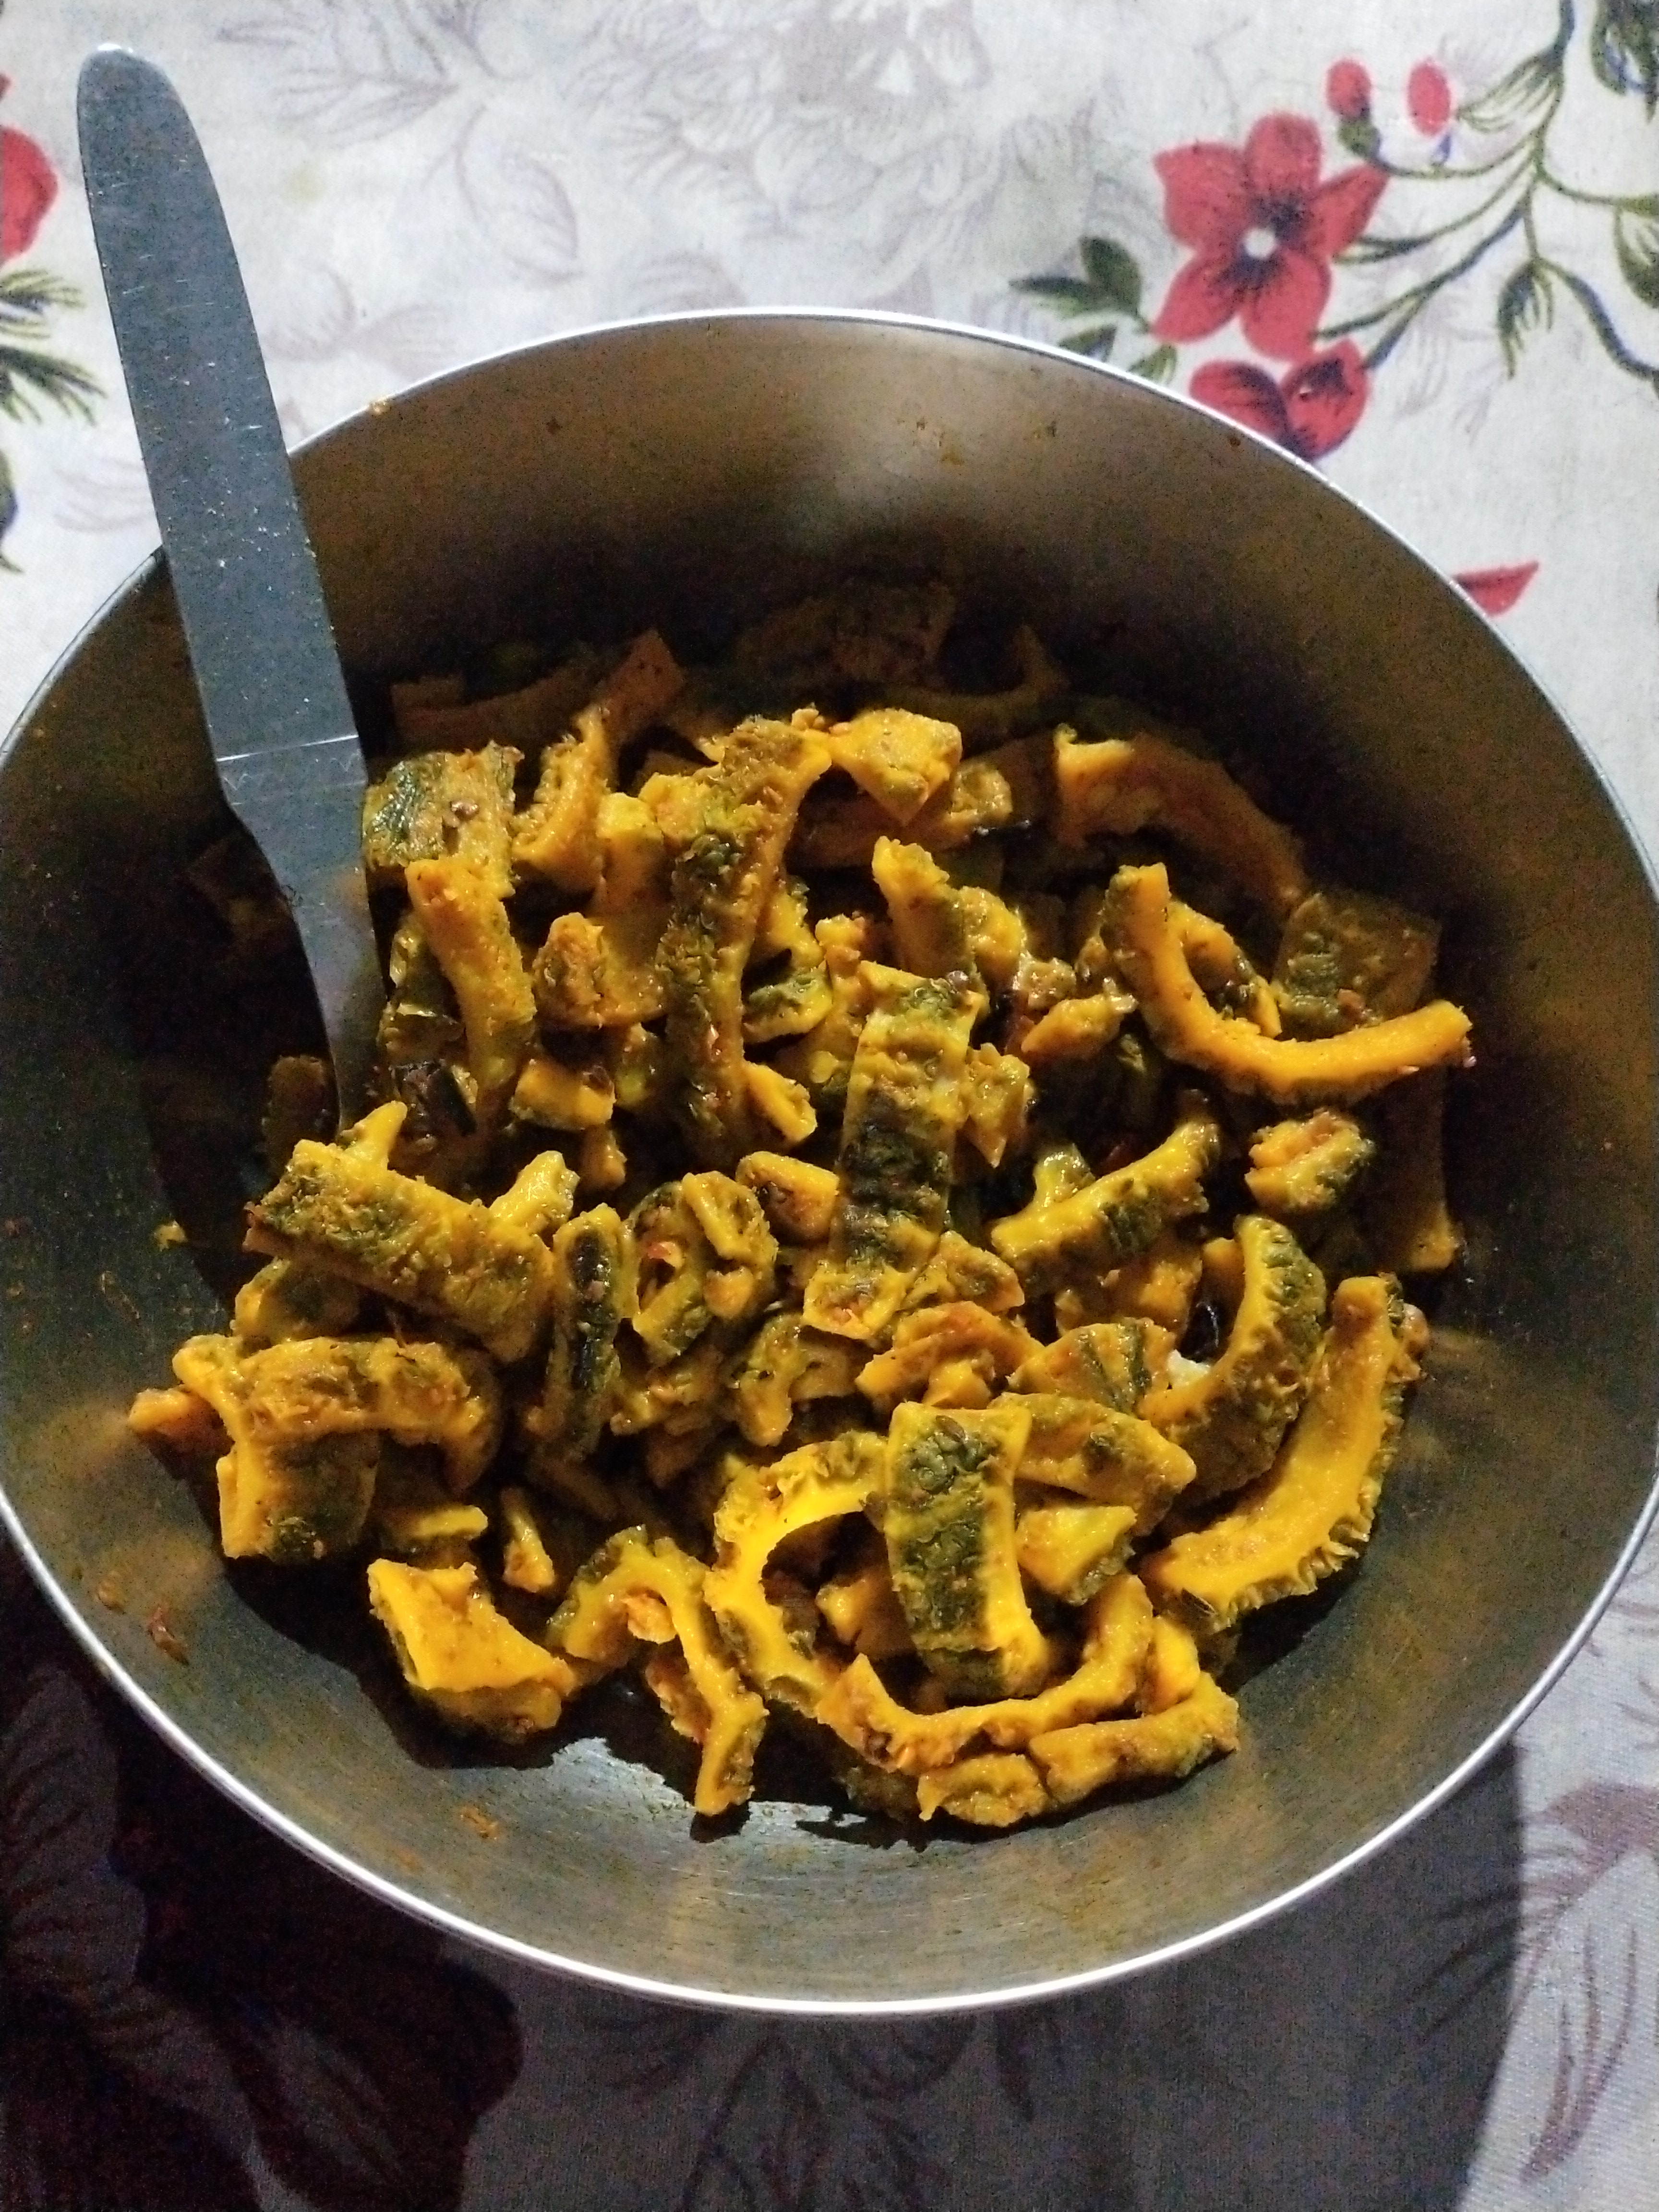food: (113, 568, 1485, 1860)
